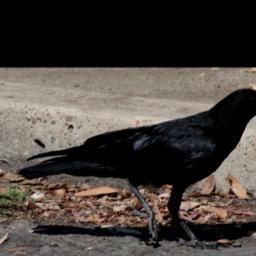Crow: (18, 85, 256, 247)
